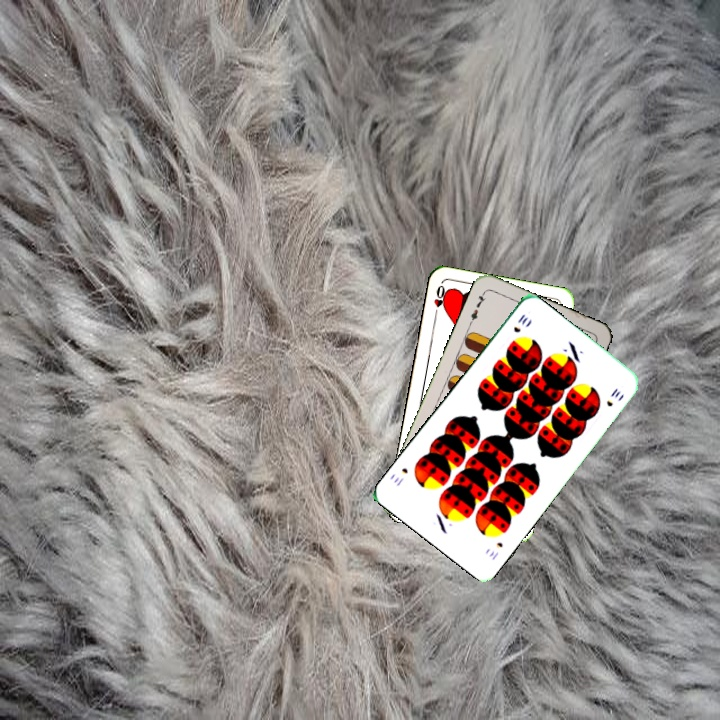E7: (466, 288, 488, 326)
HO: (430, 281, 449, 321)
S10: (509, 310, 531, 335), (485, 538, 505, 563)
